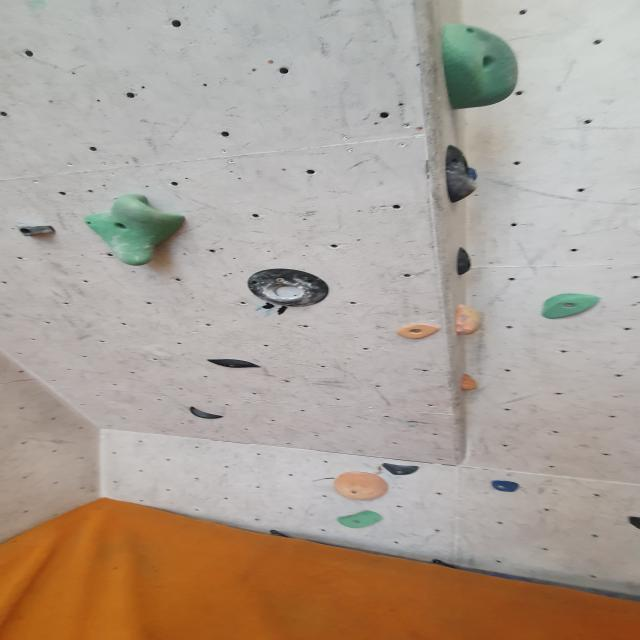Crimp: (538, 293, 604, 322), (394, 323, 444, 340), (488, 480, 522, 494)
Jug: (81, 190, 194, 268)
Pinch: (450, 304, 492, 339), (334, 511, 384, 532), (17, 220, 61, 239)
Pocket: (246, 270, 332, 307), (443, 145, 480, 204)
Sloper: (436, 23, 524, 112), (331, 471, 389, 503)
